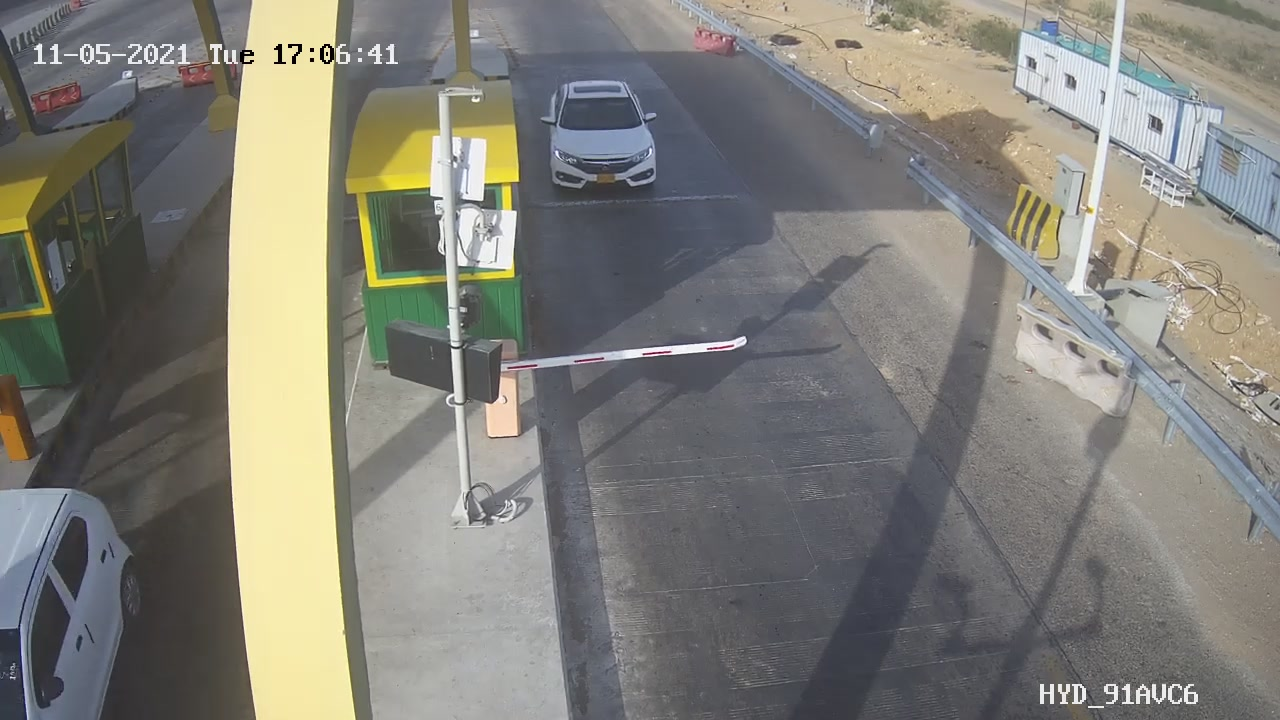F1: (529, 65, 681, 209)
